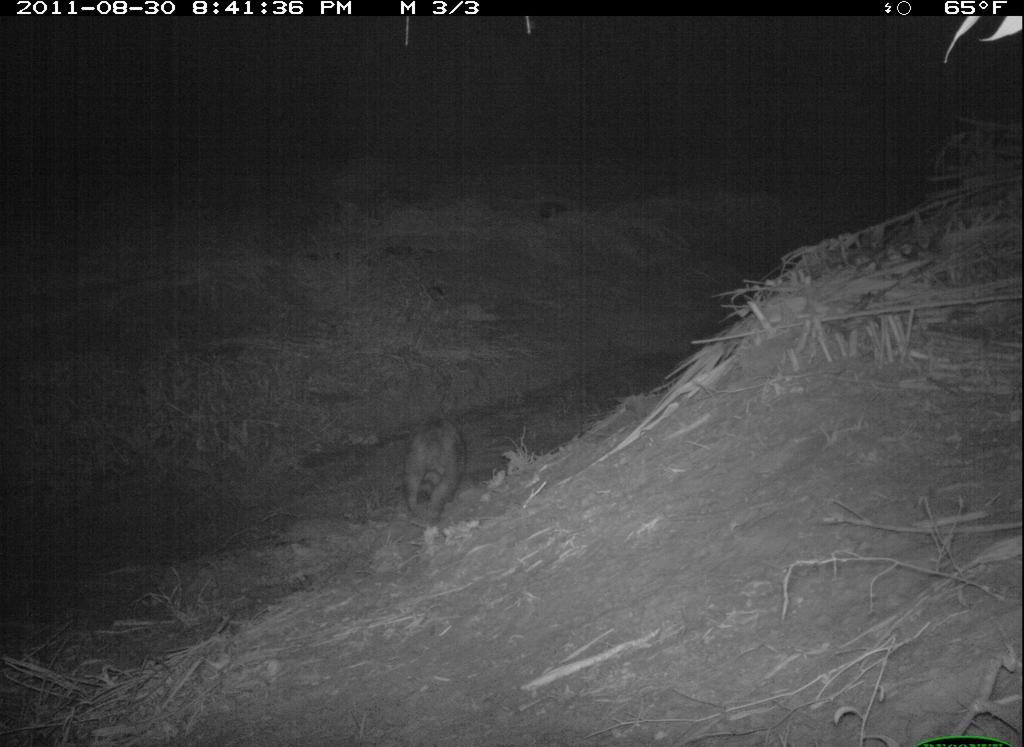raccoon: (400, 414, 471, 538)
